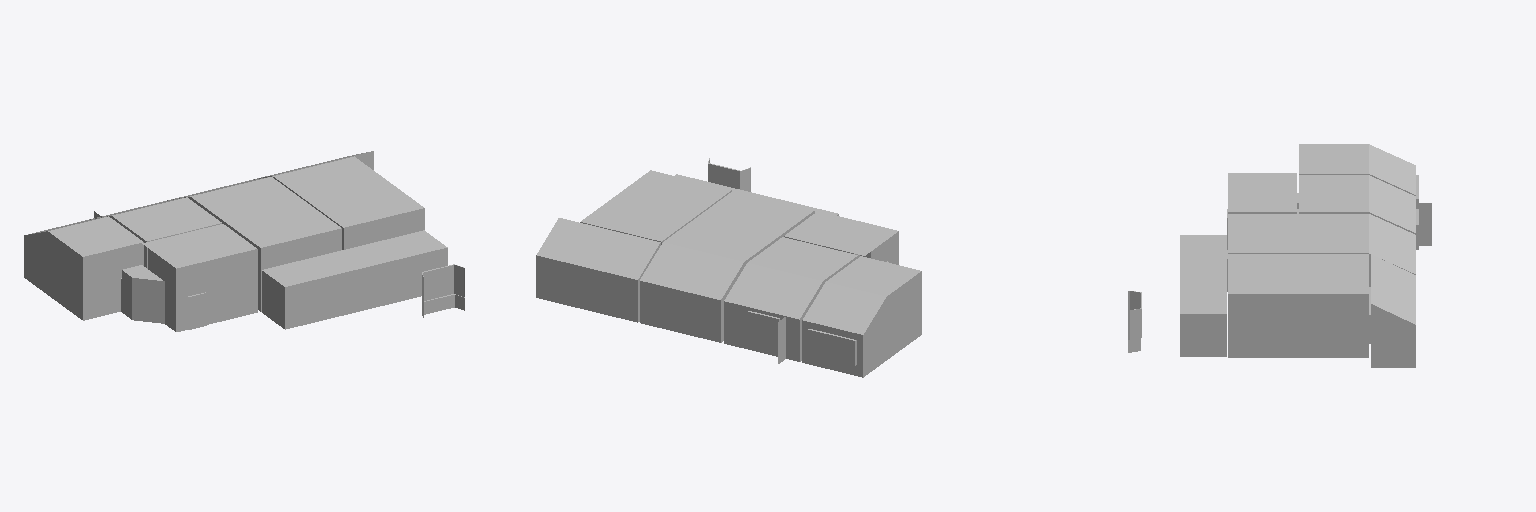
3 views of the same model, side by side, from view 1: azimuth 30°, elevation 25°; view 2: azimuth 150°, elevation 25°; view 3: azimuth 270°, elevation 25° (orthographic).
Visible parts, largest first — view 1: Ноль_объект.24, Ноль_объект, Ноль_объект.8, Ноль_объект.52, Ноль_объект.14, Ноль_объект.32, Ноль_объект.29, Ноль_объект.41, Ноль_объект.40, Ноль_объект.51, Ноль_объект.6, Ноль_объект.20 (+7 smaller); view 2: Ноль_объект, Ноль_объект.41, Ноль_объект.8, Ноль_объект.51, Ноль_объект.28, Ноль_объект.29, Ноль_объект.52, Ноль_объект.4, Ноль_объект.12, Ноль_объект.18, Ноль_объект.44, Ноль_объект.54 (+7 smaller); view 3: Ноль_объект, Ноль_объект.8, Ноль_объект.22, Ноль_объект.41, Ноль_объект.14, Ноль_объект.51, Ноль_объект.20, Ноль_объект.29, Ноль_объект.28, Ноль_объект.24, Ноль_объект.18, wall;visible=0 (+1 smaller).
Part boxes in pixels (left/top/right/bottom): Ноль_объект.24: left=262, top=248, right=447, bottom=329; Ноль_объект: left=171, top=177, right=340, bottom=247; Ноль_объект.8: left=273, top=156, right=423, bottom=227; Ноль_объект.52: left=24, top=235, right=143, bottom=320; Ноль_объект.14: left=262, top=230, right=447, bottom=286; Ноль_объект.32: left=165, top=270, right=257, bottom=331; Ноль_объект.29: left=123, top=224, right=256, bottom=280; Ноль_объект.41: left=89, top=197, right=221, bottom=240; Ноль_объект.40: left=148, top=248, right=257, bottom=289; Ноль_объект.51: left=28, top=216, right=142, bottom=256; Ноль_объект.6: left=167, top=197, right=341, bottom=268; Ноль_объект.20: left=273, top=177, right=424, bottom=248; Ноль_объект: left=640, top=191, right=814, bottom=299; Ноль_объект.41: left=724, top=237, right=857, bottom=319; Ноль_объект.8: left=581, top=170, right=730, bottom=241; Ноль_объект.51: left=803, top=256, right=920, bottom=334; Ноль_объект.28: left=537, top=218, right=660, bottom=279; Ноль_объект.29: left=785, top=211, right=897, bottom=262; Ноль_объект.52: left=863, top=293, right=921, bottom=377; Ноль_объект.4: left=640, top=281, right=720, bottom=329; Ноль_объект.12: left=557, top=261, right=637, bottom=309; Ноль_объект.18: left=536, top=255, right=640, bottom=322; Ноль_объект.44: left=724, top=301, right=804, bottom=361; Ноль_объект.54: left=802, top=320, right=862, bottom=377; Ноль_объект: left=1228, top=214, right=1415, bottom=273; Ноль_объект.8: left=1228, top=254, right=1368, bottom=293; Ноль_объект.22: left=1228, top=315, right=1368, bottom=357; Ноль_объект.41: left=1299, top=175, right=1415, bottom=232; Ноль_объект.14: left=1180, top=235, right=1226, bottom=313; Ноль_объект.51: left=1299, top=144, right=1415, bottom=194; Ноль_объект.20: left=1228, top=294, right=1368, bottom=314; Ноль_объект.29: left=1228, top=173, right=1296, bottom=211; Ноль_объект.28: left=1371, top=254, right=1415, bottom=324; Ноль_объект.24: left=1180, top=314, right=1226, bottom=356; Ноль_объект.18: left=1371, top=325, right=1415, bottom=367; wall;visible=0: left=1416, top=203, right=1431, bottom=245.
Size of the model in its own units: 2170 by 405 by 1742.